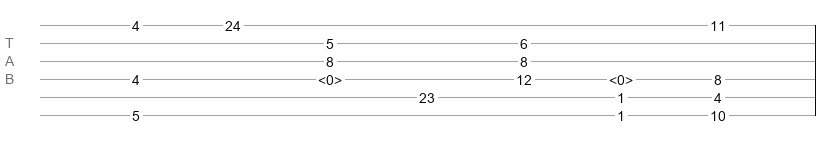1: (617, 90, 625, 100), (617, 108, 625, 118)
10: (710, 108, 726, 118)
11: (710, 18, 726, 28)
12: (516, 72, 532, 82)
23: (419, 90, 435, 100)
24: (225, 18, 241, 28)
4: (132, 72, 140, 82), (132, 18, 140, 28), (714, 90, 722, 100)
5: (132, 108, 140, 118), (326, 36, 334, 46)
6: (520, 36, 528, 46)
8: (326, 54, 334, 64), (520, 54, 528, 64), (714, 72, 722, 82)
harmonic: (318, 72, 342, 82), (609, 72, 633, 82)
